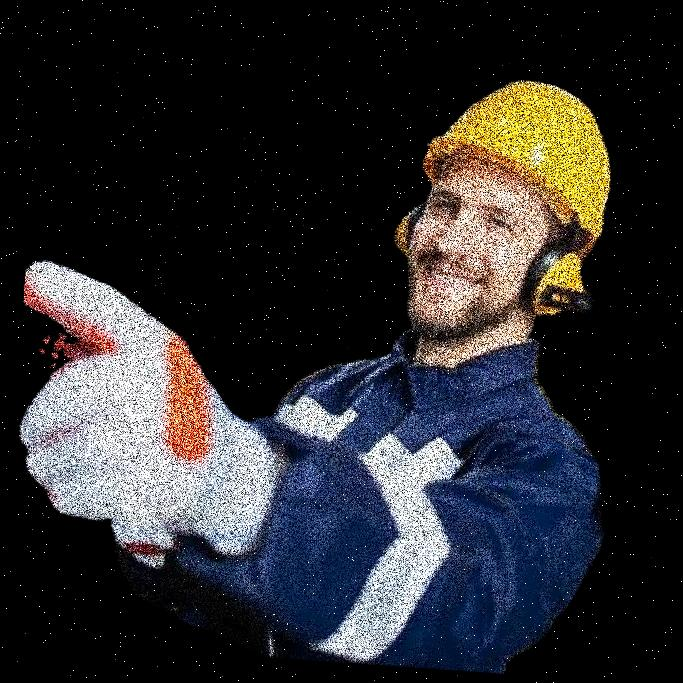Pessoa: (353, 0, 540, 682)
